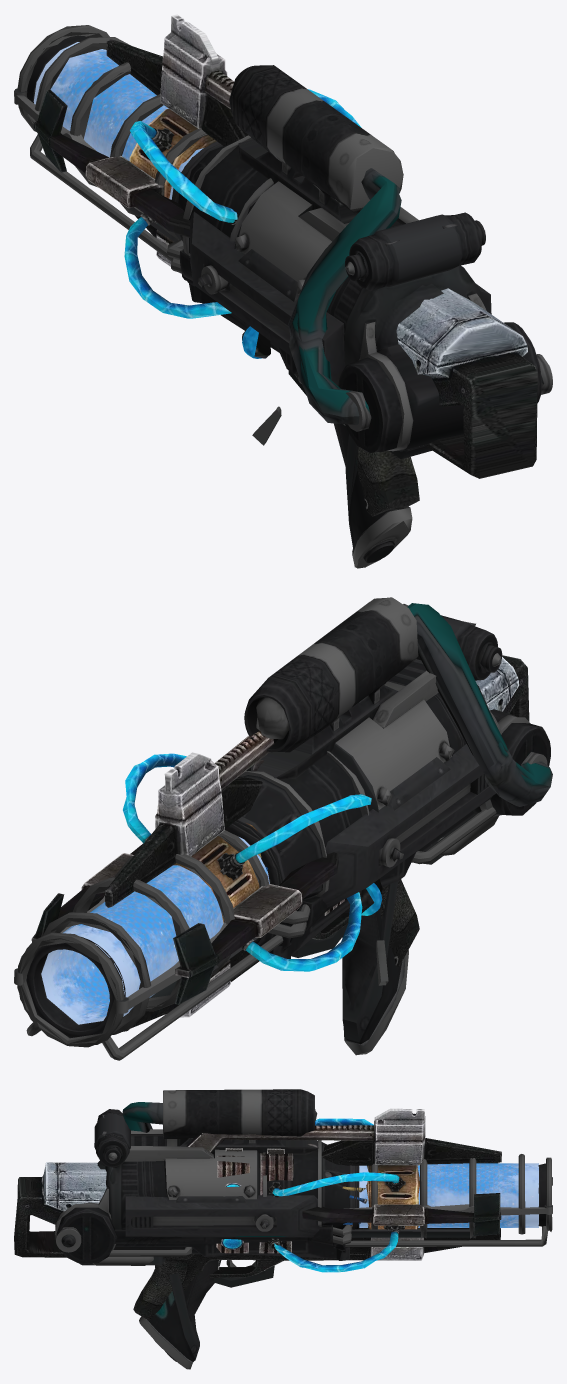
Rendered from hollow-gun.glb.
3 renders of one model, top to bottom at view 1: azimuth 30°, elevation 25°; view 2: azimuth 150°, elevation 25°; view 3: azimuth 270°, elevation 25°, orthographic. The views are drawn at different scales.
Parts seen in each view (by area): view 1: Object_11, Object_26, Object_13, Object_15; view 2: Object_11, Object_13, Object_26, Object_15; view 3: Object_11, Object_26, Object_13, Object_15.
Boxes of the visible parts, <box> form: Object_11: <box>14,25,552,568</box>; Object_26: <box>33,14,537,516</box>; Object_13: <box>14,25,552,567</box>; Object_15: <box>33,42,203,199</box>; Object_11: <box>14,597,552,1060</box>; Object_13: <box>14,597,551,1060</box>; Object_26: <box>31,655,529,1034</box>; Object_15: <box>41,837,269,1024</box>; Object_11: <box>55,1089,552,1362</box>; Object_26: <box>14,1108,501,1320</box>; Object_13: <box>55,1090,552,1369</box>; Object_15: <box>359,1163,538,1227</box>.
Bounding box in the file's own units: 0.2881 × 0.5604 × 0.9983.
Materials: 3 (3 with a texture image).
